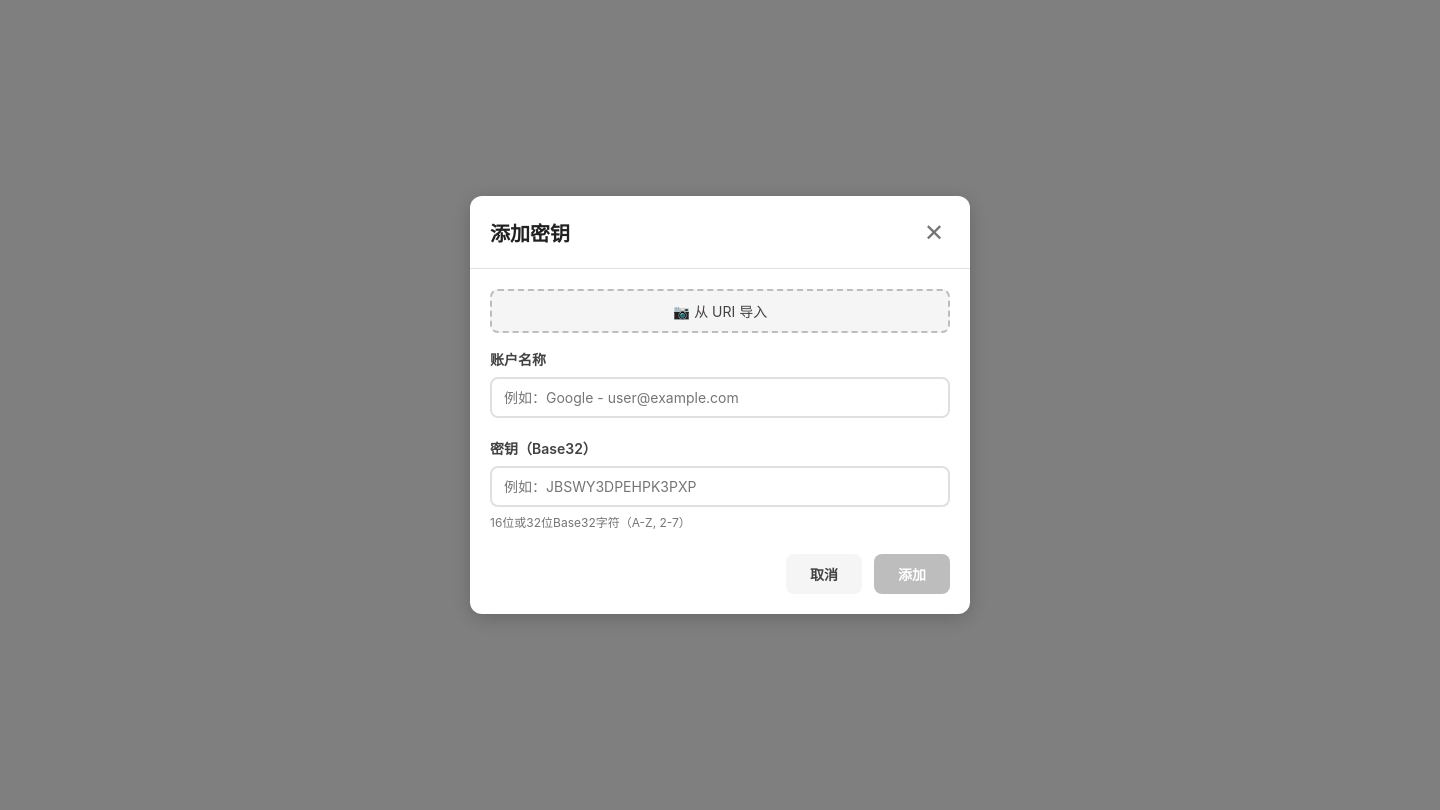
Test: TokenForm › URI import › should show URI import section when button clicked
Click the button with class "btn-import": {"x": 720, "y": 311} 490,289 -> 950,333
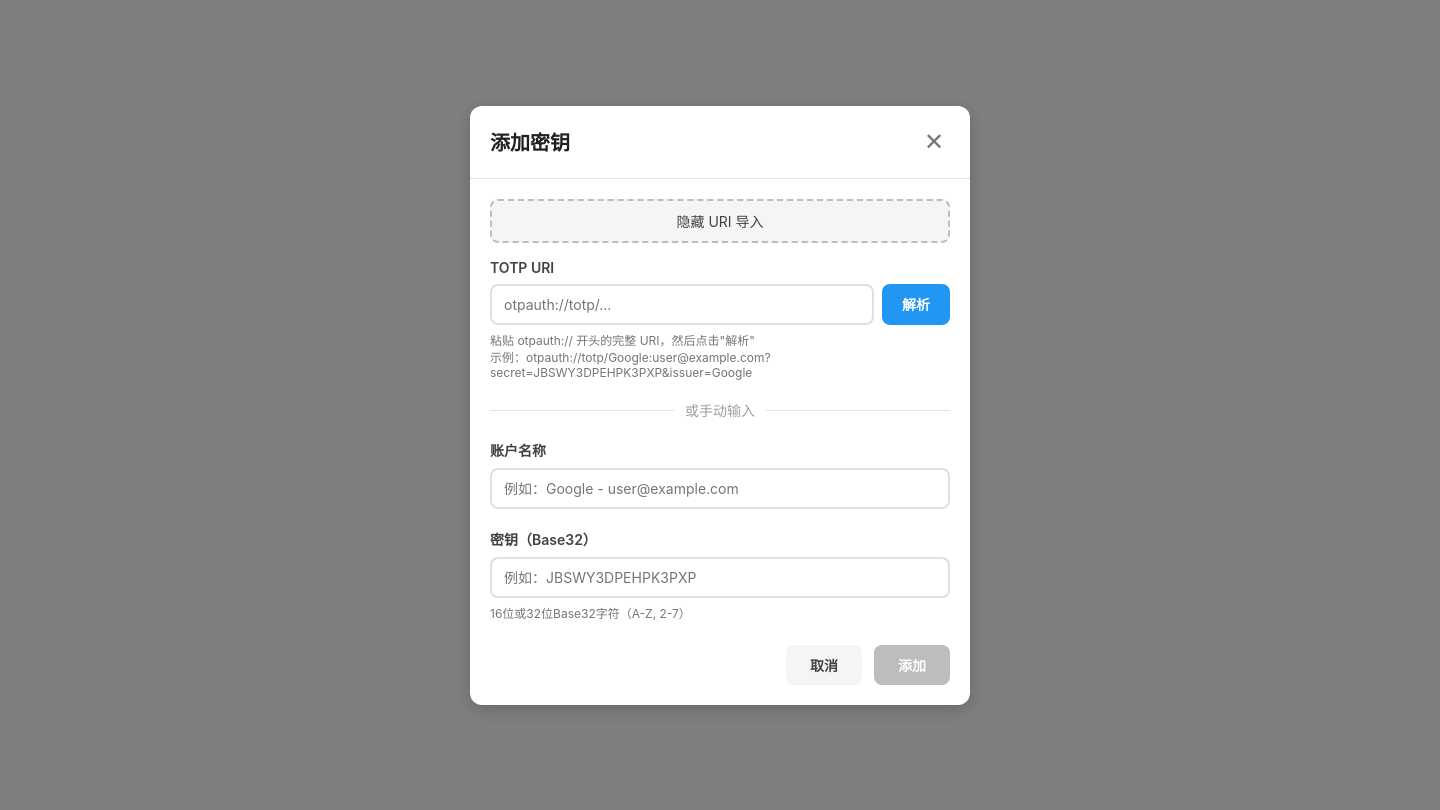
Now the field with id "uri" is shown, box 490,284 -> 874,324
